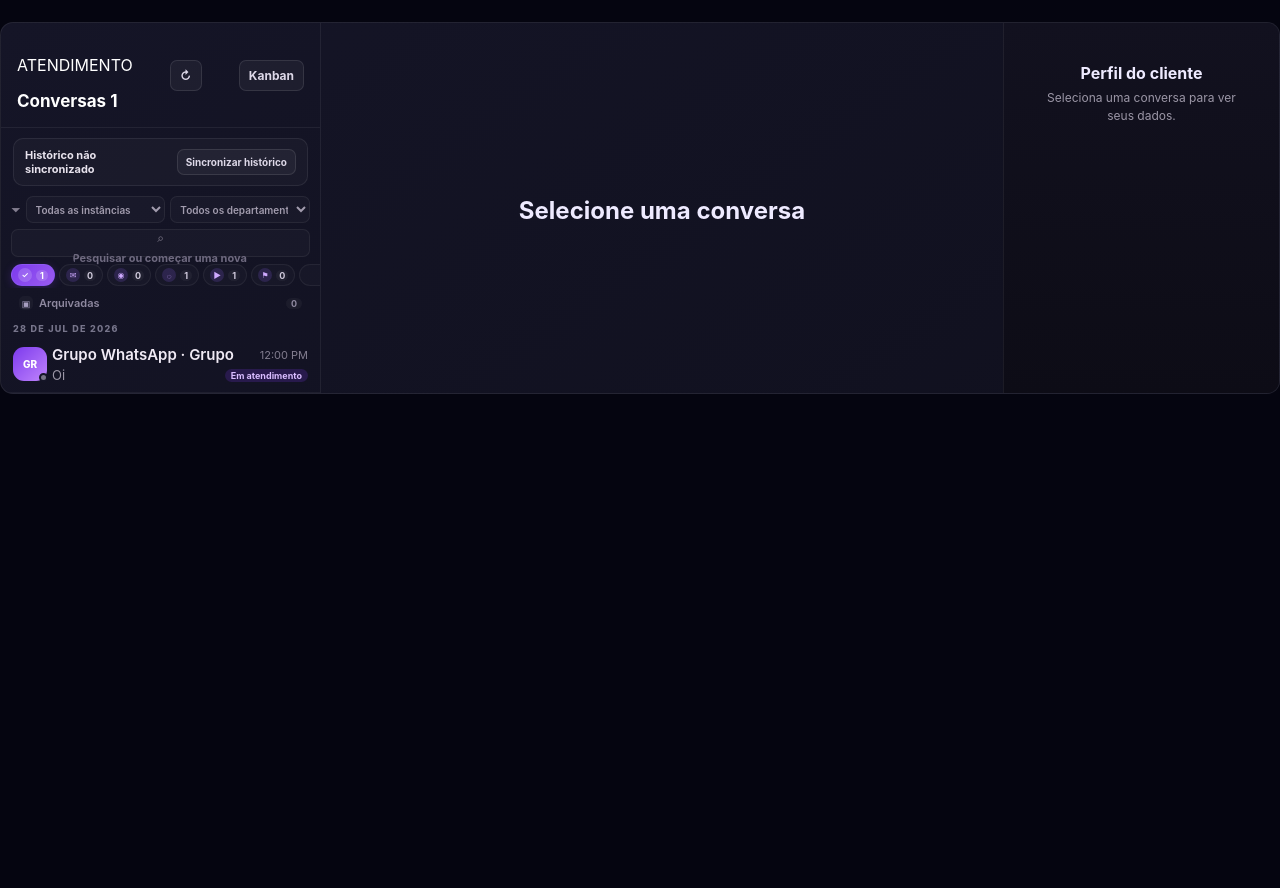
it: Inbox group mentions › lists the group members with name and number in the side panel
Click the button with class "conversation-item": [160, 364] box [1, 336, 320, 393]
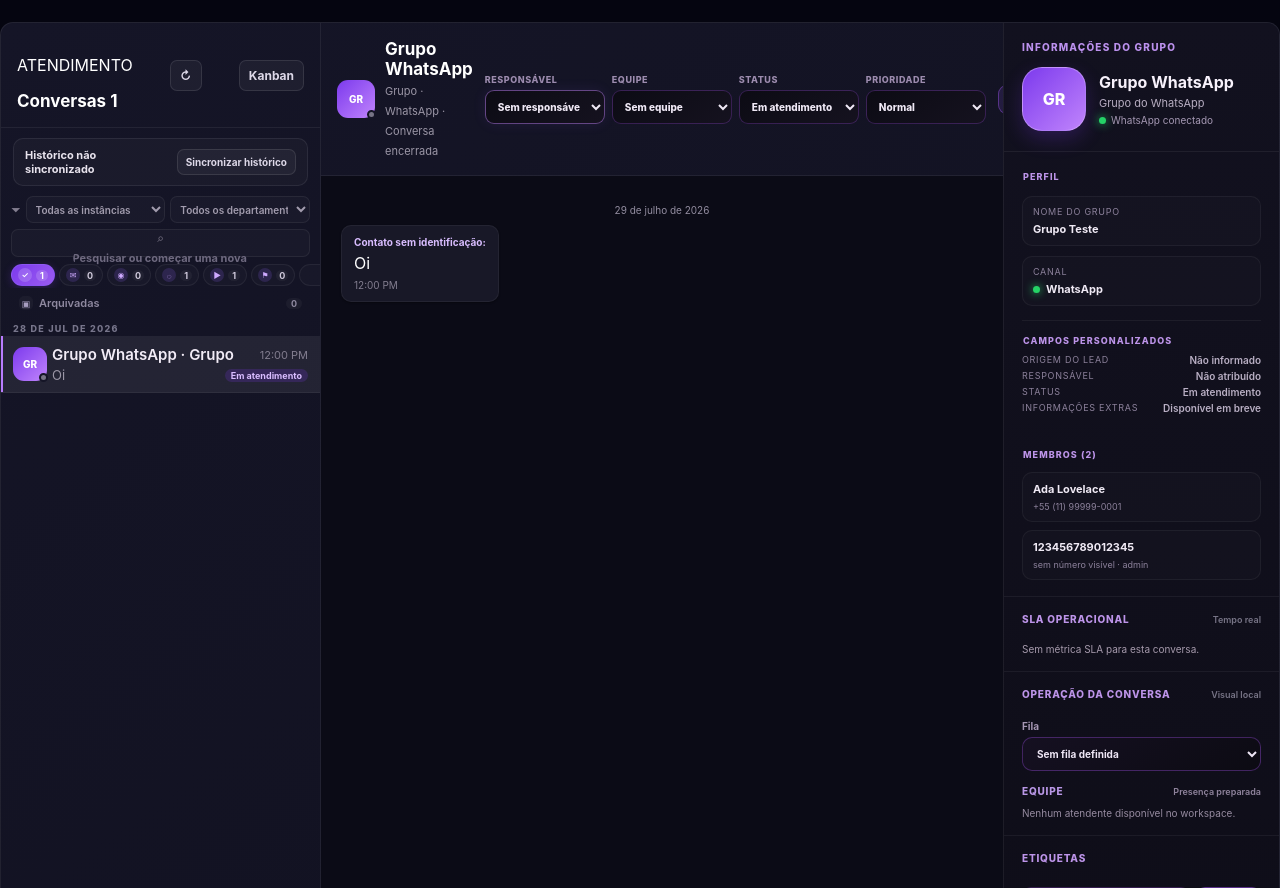
Check: the element with class "customer-members" shows "MEMBROS (2)", box [1004, 430, 1279, 596]
Check: the text "Ada Lovelace" is shown, box [1033, 482, 1105, 496]
Check: the text "+55 (11) 99999-0001" is shown, box [1033, 501, 1121, 512]
